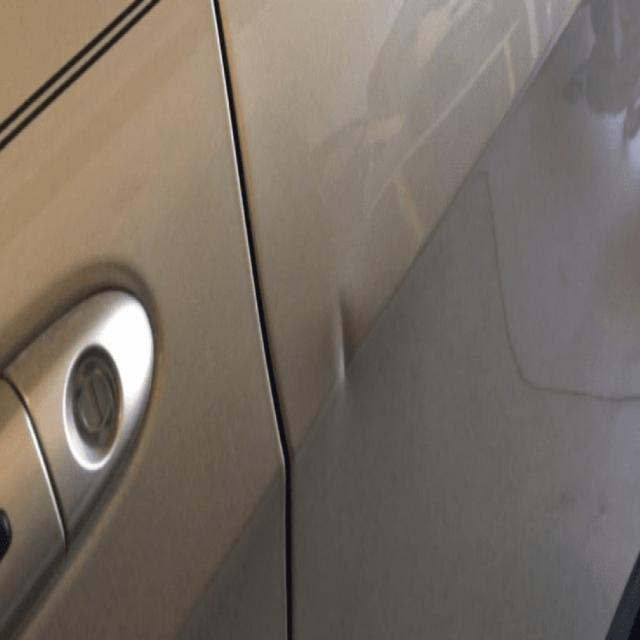dents: (316, 267, 374, 402)
